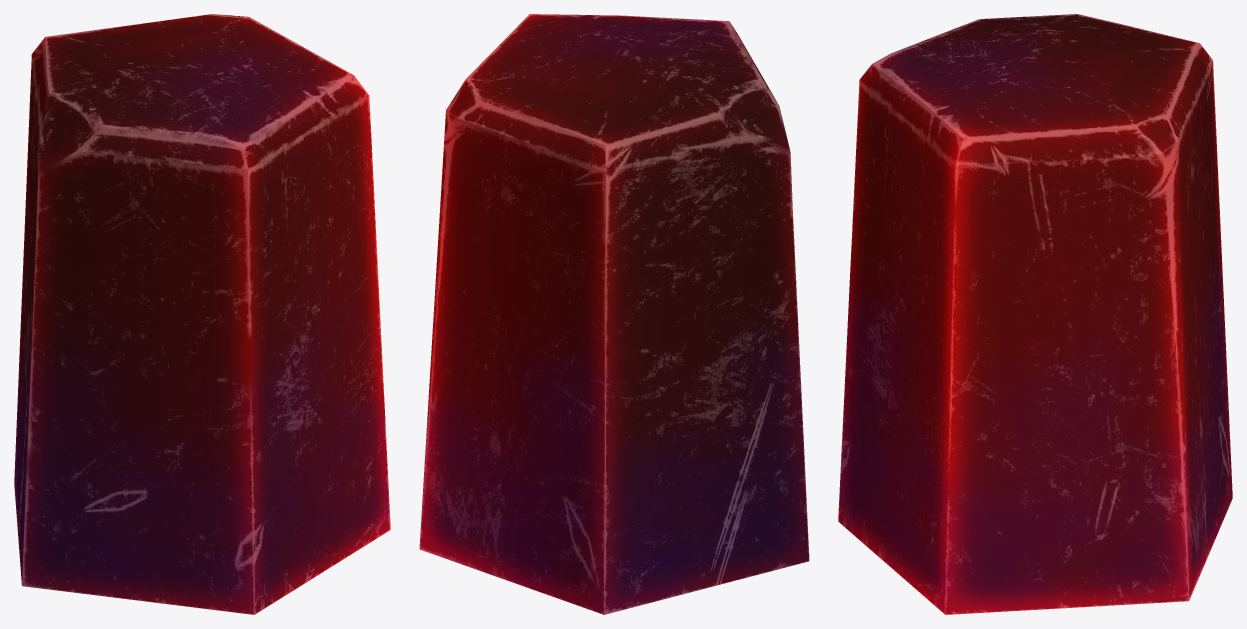
3 renders of one model, left to right at view 1: azimuth 30°, elevation 25°; view 2: azimuth 150°, elevation 25°; view 3: azimuth 270°, elevation 25°, orthographic.
Visible parts, largest first — view 1: Crystal_optimize1; view 2: Crystal_optimize1; view 3: Crystal_optimize1.
Boxes of the visible parts, left/top/right/bottom form: Crystal_optimize1: left=14, top=14, right=390, bottom=614; Crystal_optimize1: left=419, top=14, right=809, bottom=614; Crystal_optimize1: left=838, top=14, right=1232, bottom=614.
Bounding box in the file's own units: 1.42 × 2 × 1.43.
1 material, 1 textured.
